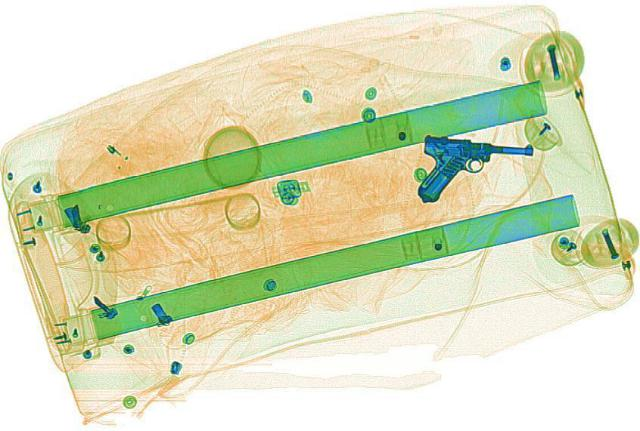Gun: (411, 133, 534, 208)
